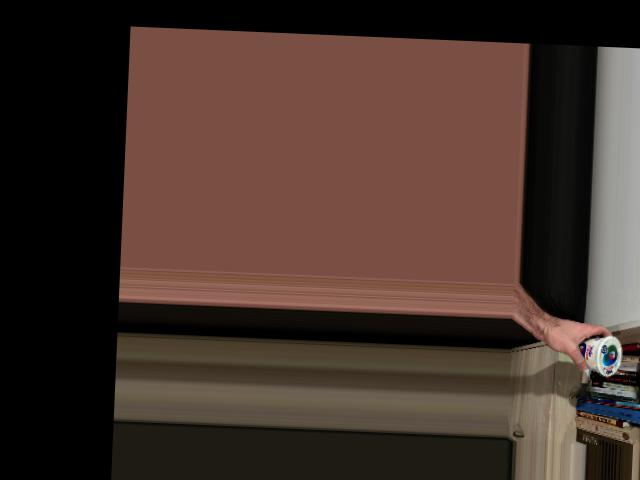cotage: (571, 330, 625, 377)
